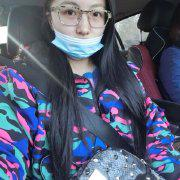WRONG: (53, 2, 108, 57)
